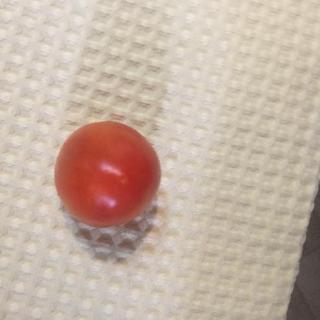Tomat: (51, 119, 169, 240)
